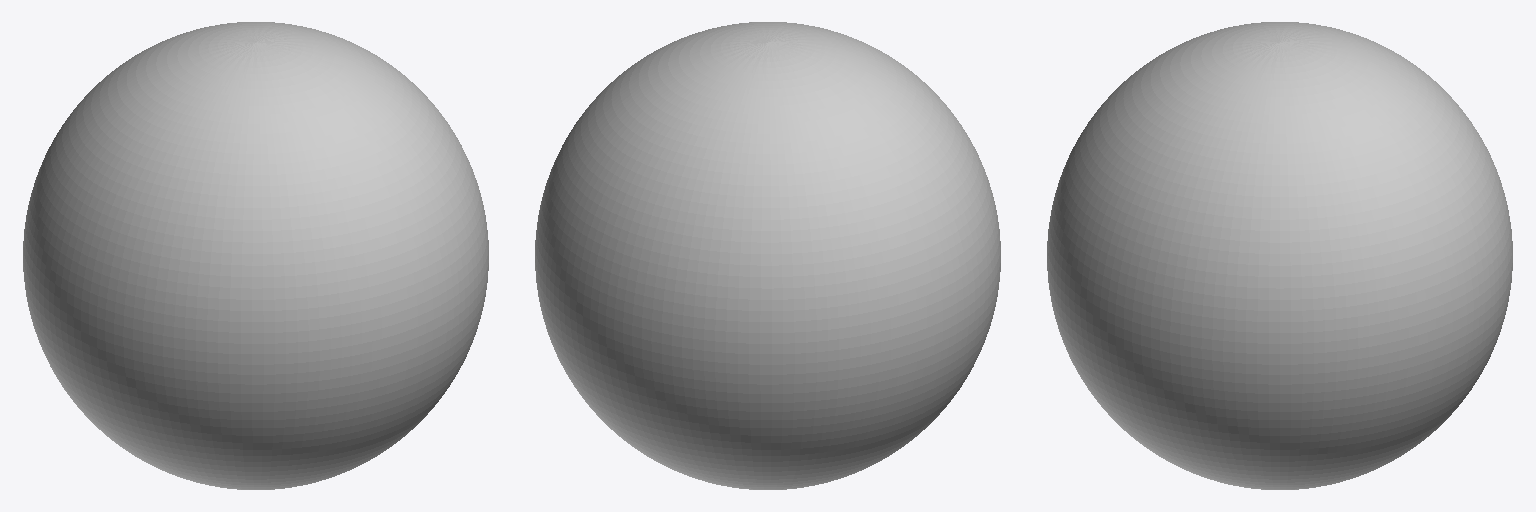
File: earth.obj
3 views of the same model, side by side, from view 1: azimuth 30°, elevation 25°; view 2: azimuth 150°, elevation 25°; view 3: azimuth 270°, elevation 25° (orthographic).
Visible parts, largest first — view 1: Sphere; view 2: Sphere; view 3: Sphere.
Boxes of the visible parts, <box> form: Sphere: <box>23,22,488,489</box>; Sphere: <box>535,22,1000,489</box>; Sphere: <box>1047,22,1512,489</box>.
Size of the model in its own units: 1.97 by 2 by 1.97.